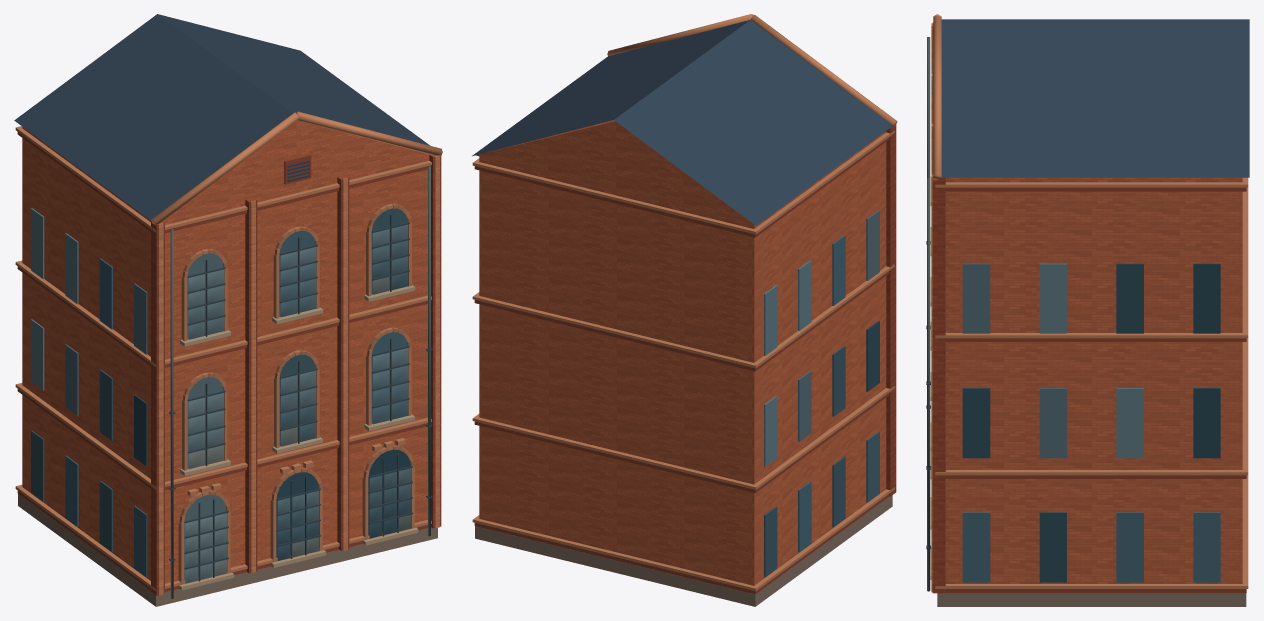
Rendered from brick-mill-gable.glb.
3 renders of one model, left to right at view 1: azimuth 30°, elevation 25°; view 2: azimuth 150°, elevation 25°; view 3: azimuth 270°, elevation 25°, orthographic. The views are drawn at different scales.
Visible parts, largest first — view 1: brick-mill-gable; view 2: brick-mill-gable; view 3: brick-mill-gable.
Part boxes in pixels (bbox=[...]): brick-mill-gable: bbox=[14, 14, 442, 606]; brick-mill-gable: bbox=[472, 14, 897, 606]; brick-mill-gable: bbox=[926, 14, 1249, 606].
Size of the model in its own units: 13.64 by 20.7 by 11.78.
Materials: 2 (1 with a texture image).
